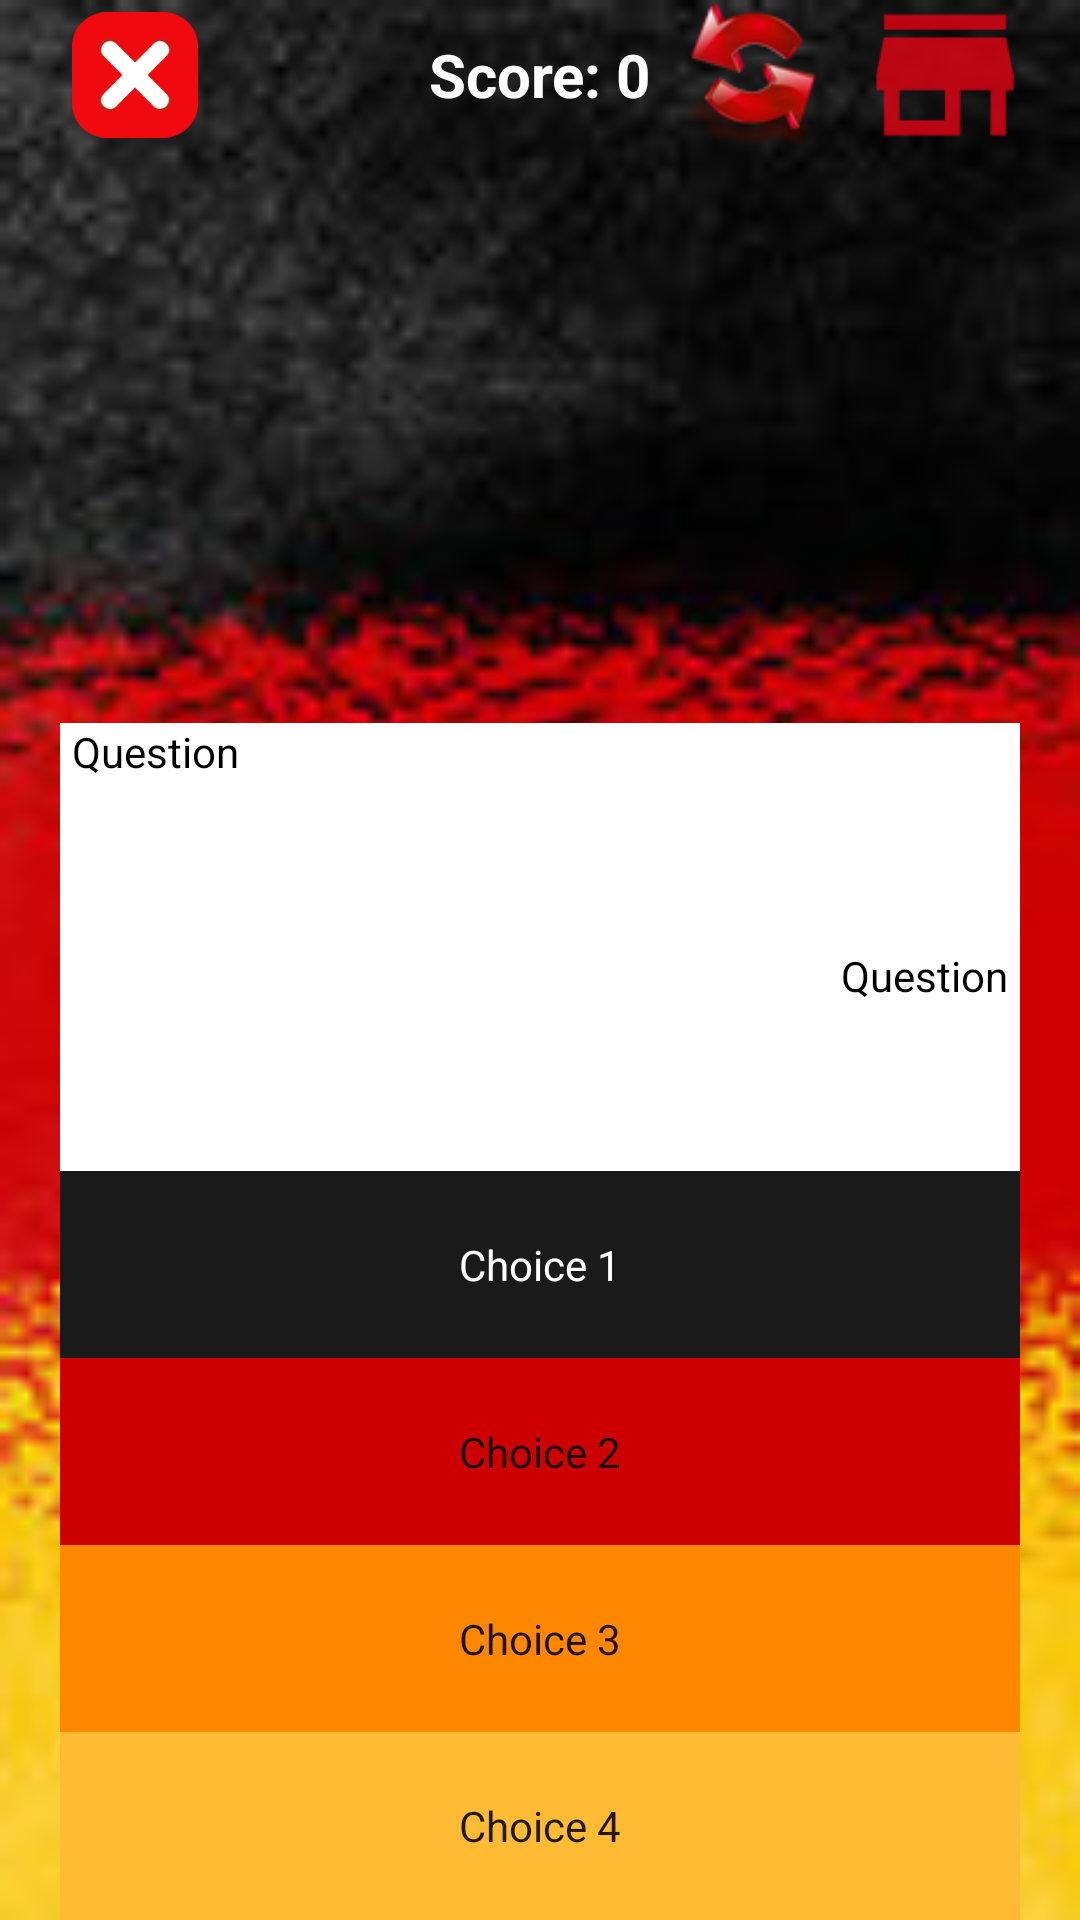

Icon bounding boxes for this 1080px×1920px phone screenshot, format (x1, y1, x2, y2):
close: (60, 0, 198, 138)
repeat: (681, 0, 816, 138)
